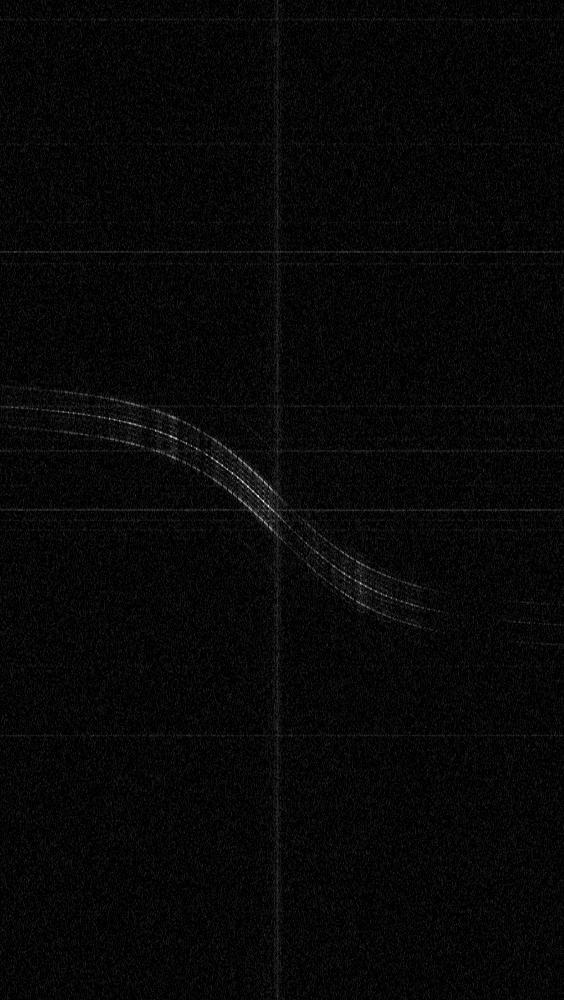signal: (0, 0, 563, 999)
